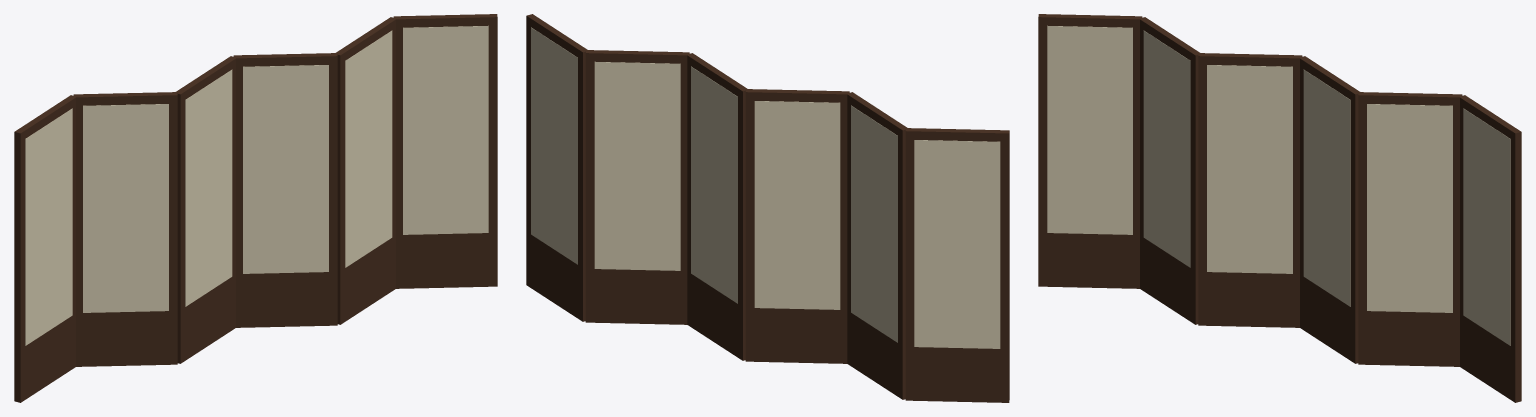
File: fn_screen.glb
3 views of the same model, side by side, from view 1: azimuth 30°, elevation 25°; view 2: azimuth 150°, elevation 25°; view 3: azimuth 330°, elevation 25° (orthographic).
Parts seen in each view (by area): view 1: fn_screen__paper, fn_screen__wood_dark; view 2: fn_screen__paper, fn_screen__wood_dark; view 3: fn_screen__paper, fn_screen__wood_dark.
Boxes of the visible parts, x1,y1,x2,y2 form: fn_screen__paper: [25, 25, 488, 345]; fn_screen__wood_dark: [14, 14, 497, 402]; fn_screen__paper: [531, 27, 1000, 348]; fn_screen__wood_dark: [526, 14, 1009, 402]; fn_screen__paper: [1047, 25, 1510, 345]; fn_screen__wood_dark: [1038, 14, 1521, 402].
Size of the model in its own units: 35.61 by 19 by 3.42.
